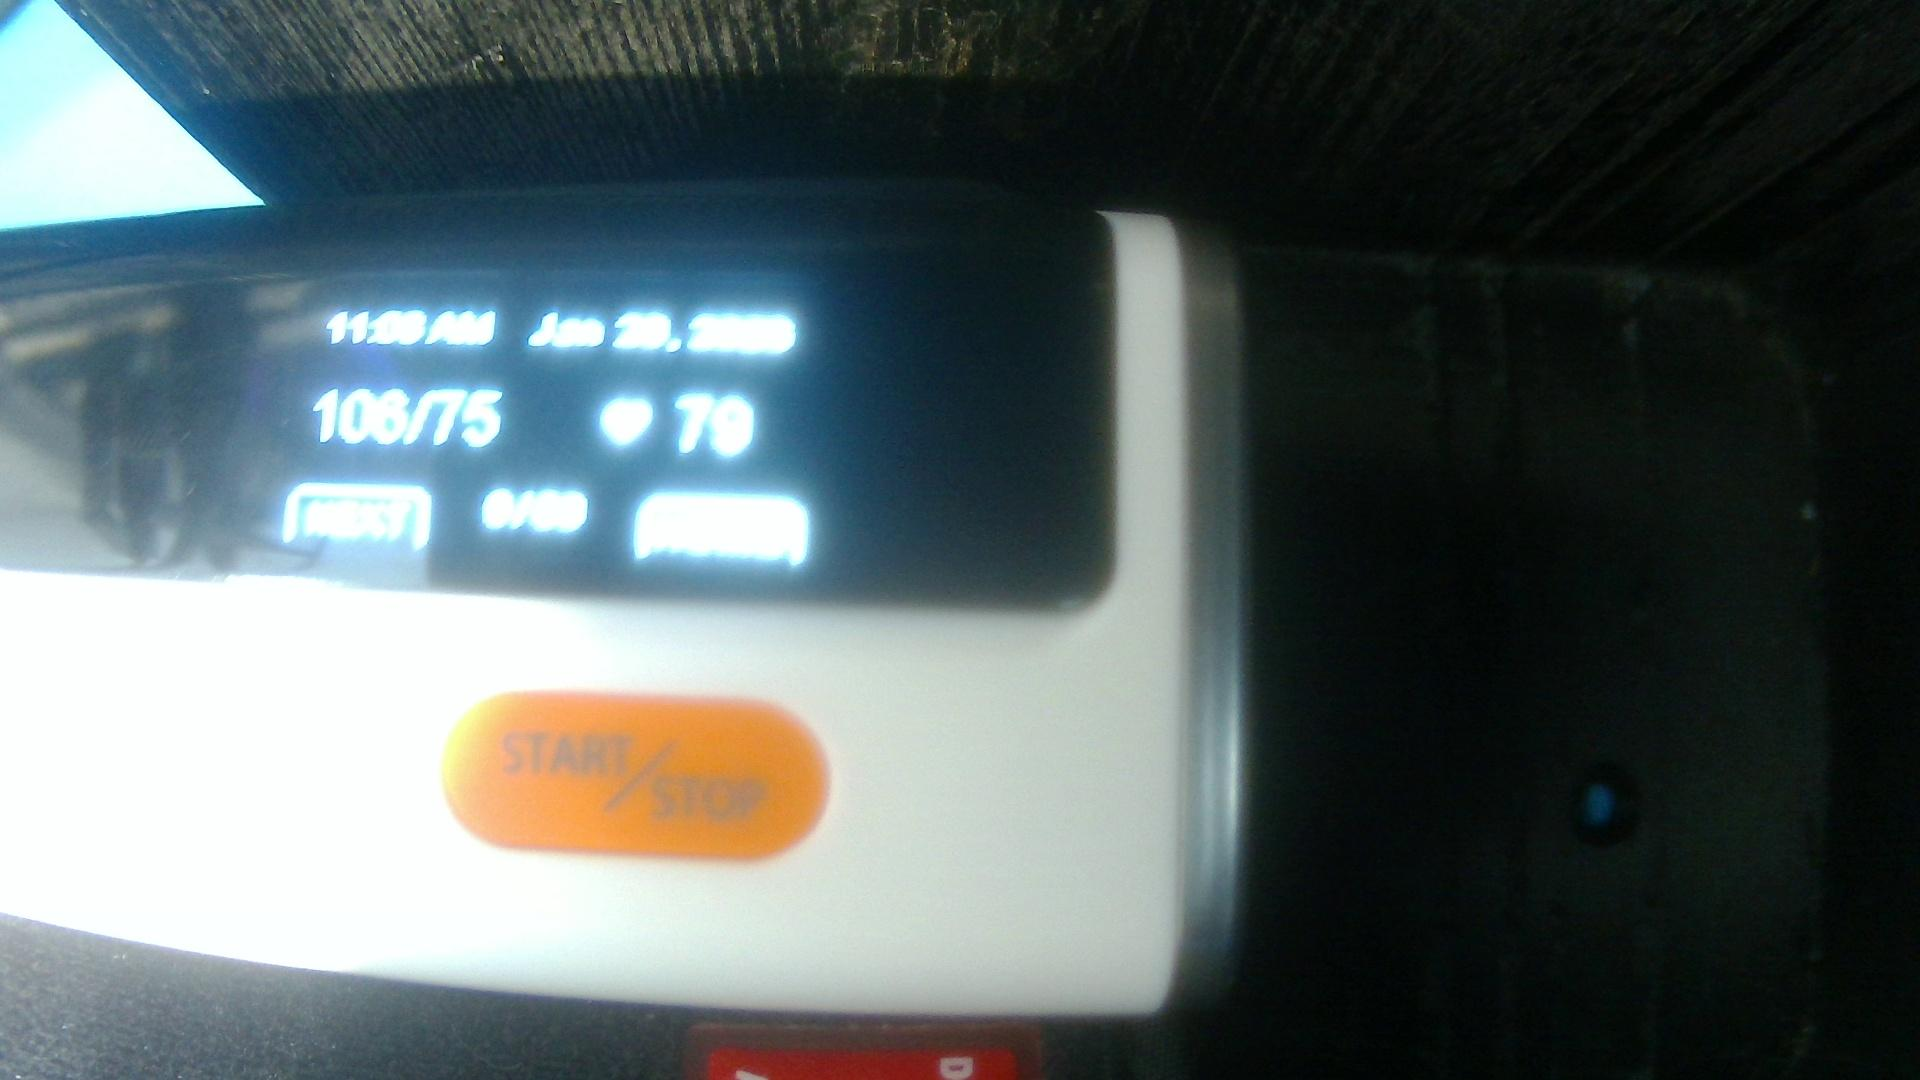DISPLAY: (3, 210, 1095, 603)
